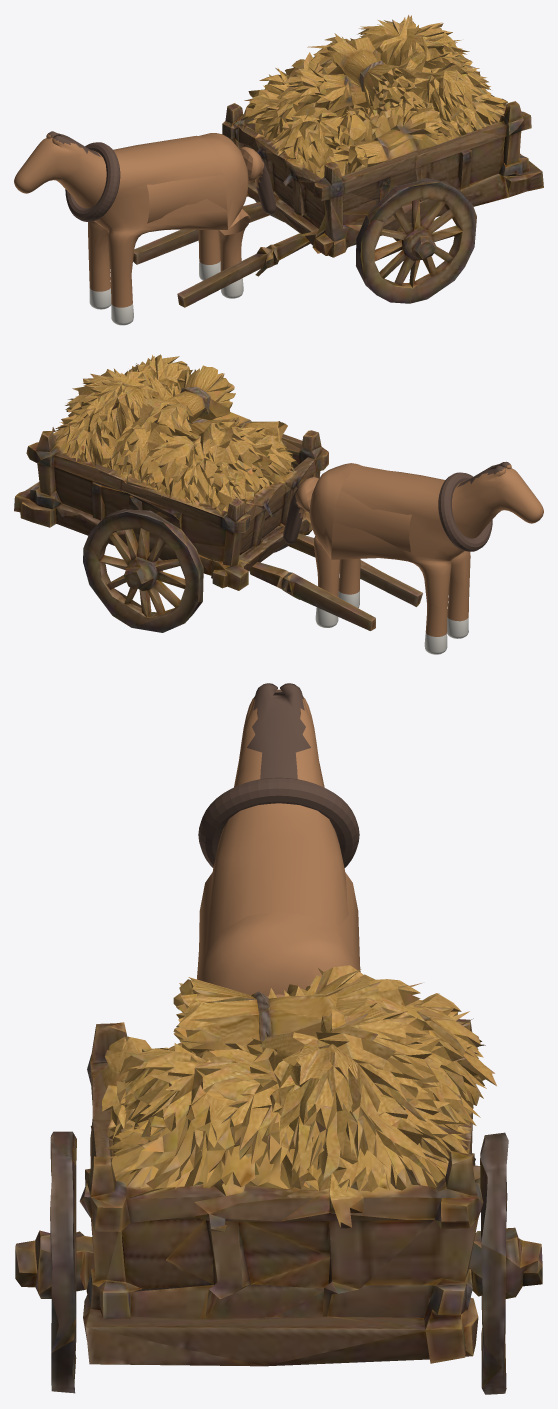
The model's file is cart.glb.
3 renders of one model, top to bottom at view 1: azimuth 30°, elevation 25°; view 2: azimuth 150°, elevation 25°; view 3: azimuth 270°, elevation 25°, orthographic. The views are drawn at different scales.
Parts seen in each view (by area): view 1: cart, horse; view 2: cart, horse; view 3: cart, horse.
Part boxes in pixels (box(x1,y1,x2,y2)): cart: box(133, 15, 543, 307); horse: box(14, 131, 276, 325); cart: box(14, 354, 422, 632); horse: box(283, 461, 543, 654); cart: box(15, 965, 542, 1394); horse: box(197, 683, 360, 997).
Bounding box in the file's own units: 5.67 × 2.36 × 2.68.
Materials: 4 (1 with a texture image).
